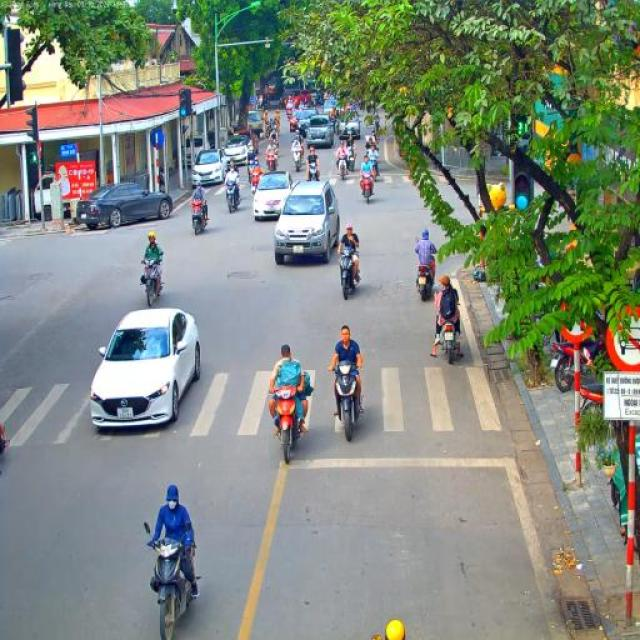bus: (503, 60, 589, 174)
car: (88, 307, 202, 432), (272, 180, 340, 266), (76, 180, 173, 230), (252, 170, 294, 222), (192, 148, 228, 188), (218, 136, 254, 172), (306, 114, 334, 148), (298, 109, 318, 139), (340, 110, 360, 140), (288, 89, 312, 109), (288, 110, 308, 132), (233, 129, 254, 149), (322, 100, 338, 119)
motorcycle: (143, 521, 202, 640), (551, 330, 609, 391), (328, 359, 364, 442), (270, 384, 306, 464), (434, 305, 461, 365), (337, 236, 362, 300), (140, 256, 164, 308), (578, 382, 608, 422), (610, 449, 628, 515), (414, 247, 435, 302), (190, 198, 208, 236), (224, 178, 241, 214), (248, 164, 264, 195), (360, 173, 375, 204), (367, 154, 381, 182), (336, 156, 349, 180), (266, 148, 278, 172), (292, 148, 303, 172), (307, 158, 318, 182), (371, 112, 381, 136), (346, 147, 354, 175), (269, 132, 279, 148), (285, 108, 295, 121), (371, 139, 380, 153), (262, 118, 268, 136), (270, 121, 276, 134)
truck: (28, 175, 78, 223), (246, 112, 263, 139)
